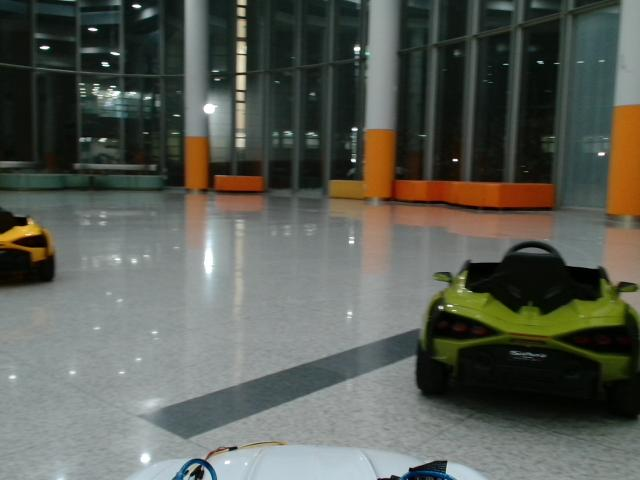car: (416, 242, 640, 415), (1, 207, 56, 290)
